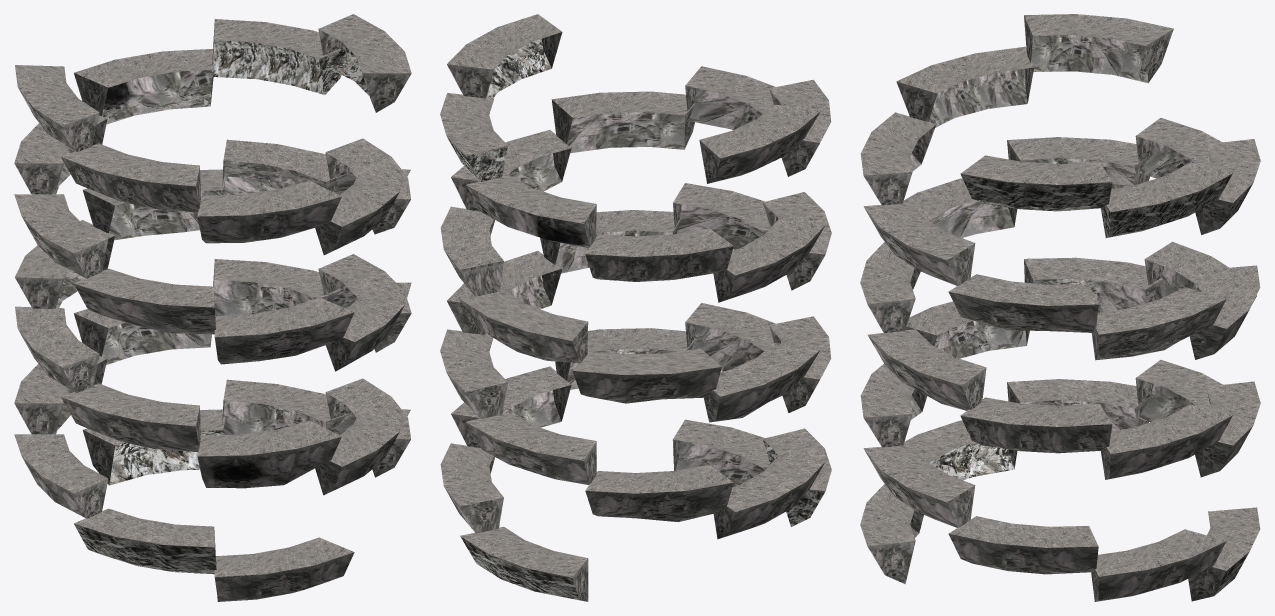
Rendered from Huan06.obj.
3 renders of one model, left to right at view 1: azimuth 30°, elevation 25°; view 2: azimuth 150°, elevation 25°; view 3: azimuth 270°, elevation 25°, orthographic. The views are drawn at different scales.
Parts seen in each view (by area): view 1: Huan06; view 2: Huan06; view 3: Huan06.
Boxes of the visible parts, x1,y1,x2,y2 form: Huan06: [14, 14, 411, 601]; Huan06: [440, 14, 831, 601]; Huan06: [860, 14, 1260, 601].
Bounding box in the file's own units: 600 × 772 × 600.
